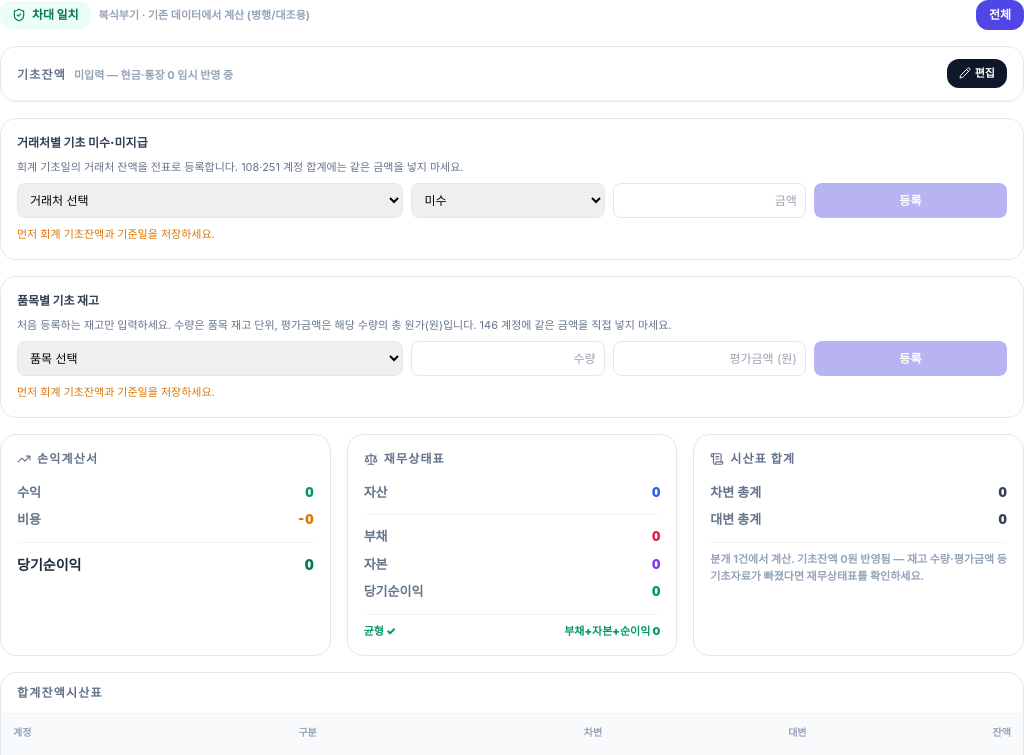
Test: 331 자동 차액 계정은 송신·잠금 없이 안내하고 다른 코드로 고칠 수 있다
The width and height of the screenshot is (1024, 755).
Click the button "편집" at [977, 73], box [947, 59, 1007, 88]
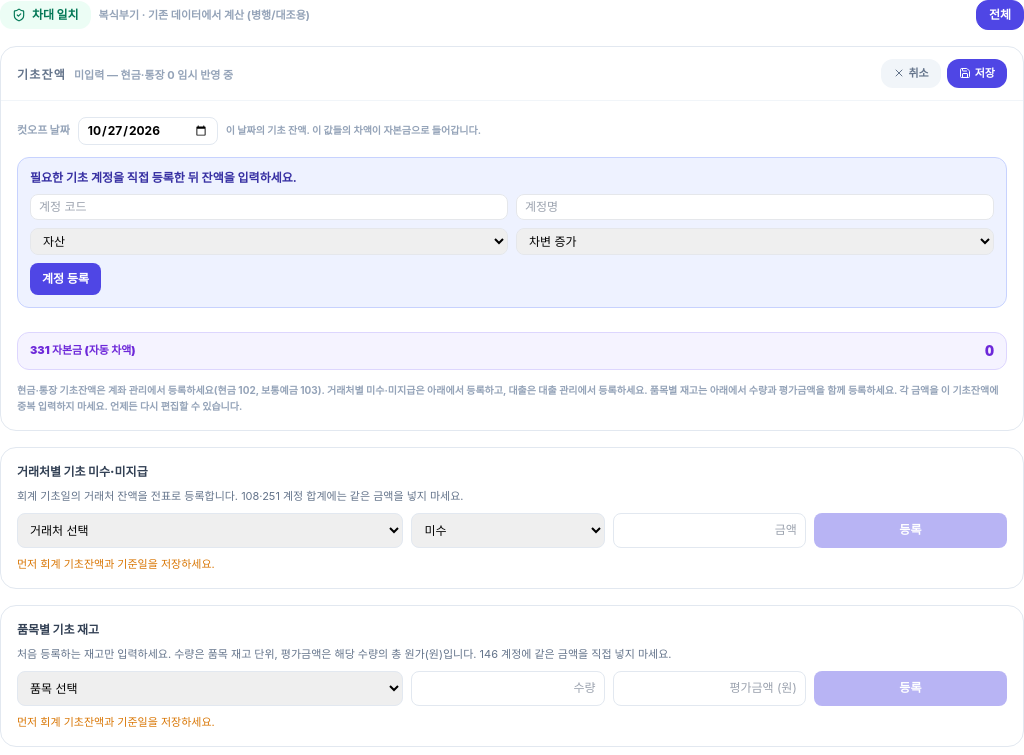
Type "122" into the field named "기초 계정 코드" at [269, 206], box [30, 194, 508, 220]
Type "비품" into the field named "기초 계정명" at [755, 206], box [516, 194, 994, 220]
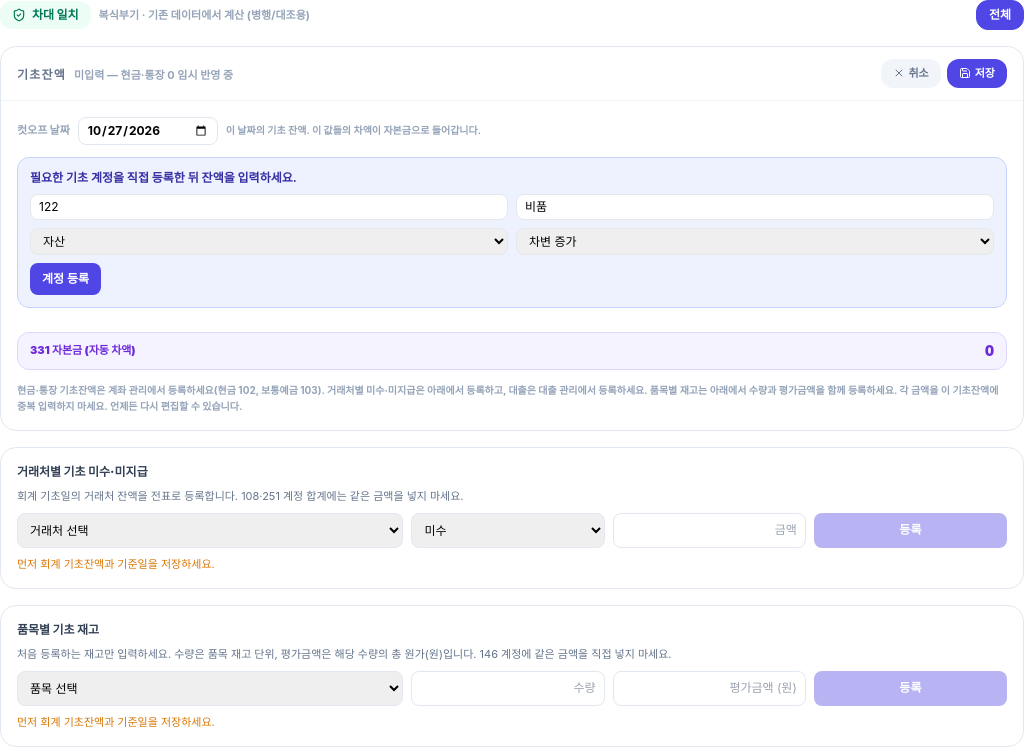
Replace the text in the field named "기초 계정 코드" with "331" at [269, 206], box [30, 194, 508, 220]
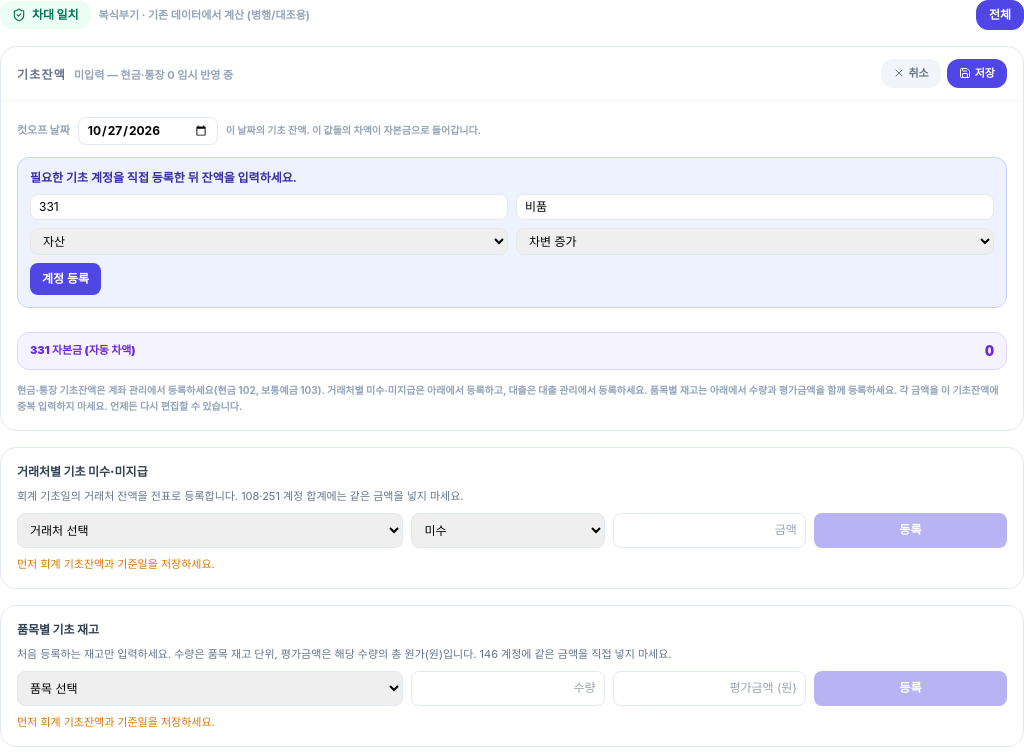
Click the button "계정 등록" at [66, 278], box [30, 262, 101, 294]
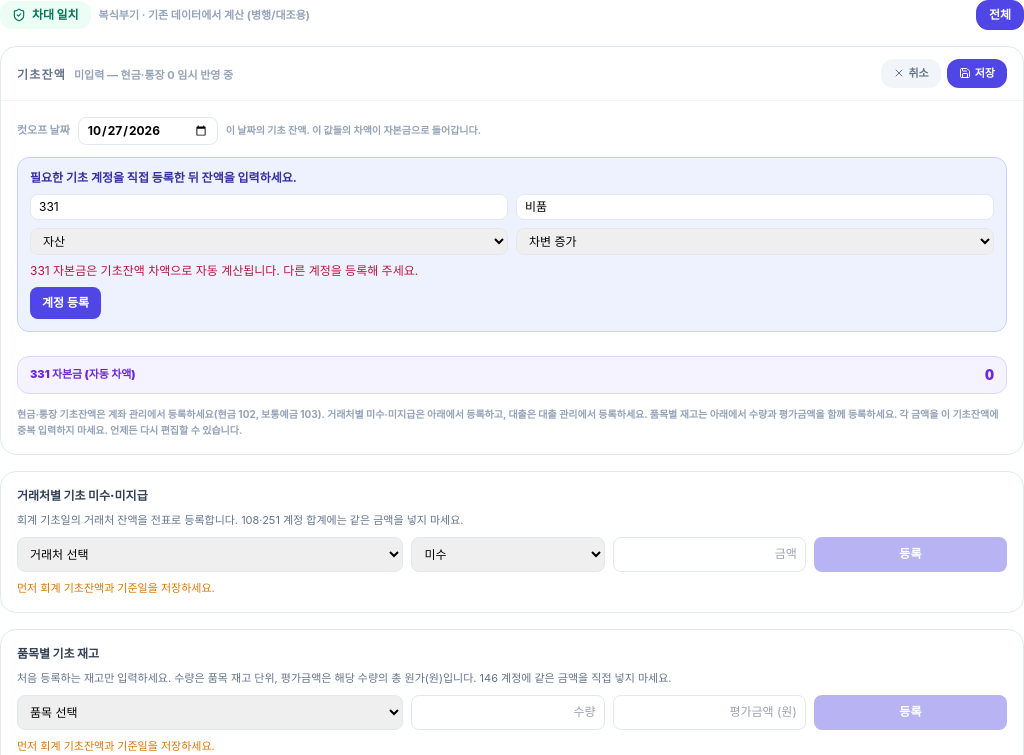
Expected: the field named "기초 계정 코드" is enabled
Expected: the text "331 자본금은 기초잔액 차액으로 자동 계산됩니다. 다른 계정을 등록해 주세요." is shown, [30, 262, 418, 278]
Replace the text in the field named "기초 계정 코드" with "122" at [269, 206], box [30, 194, 508, 220]
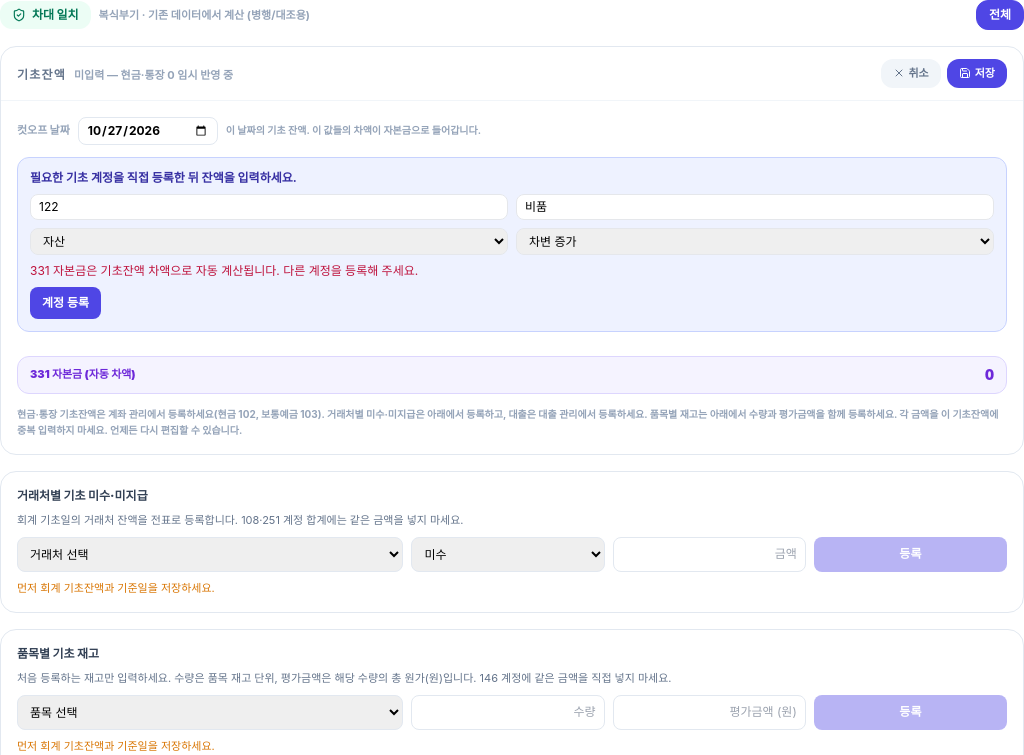
Click the button "계정 등록" at [66, 302], box [30, 286, 101, 318]
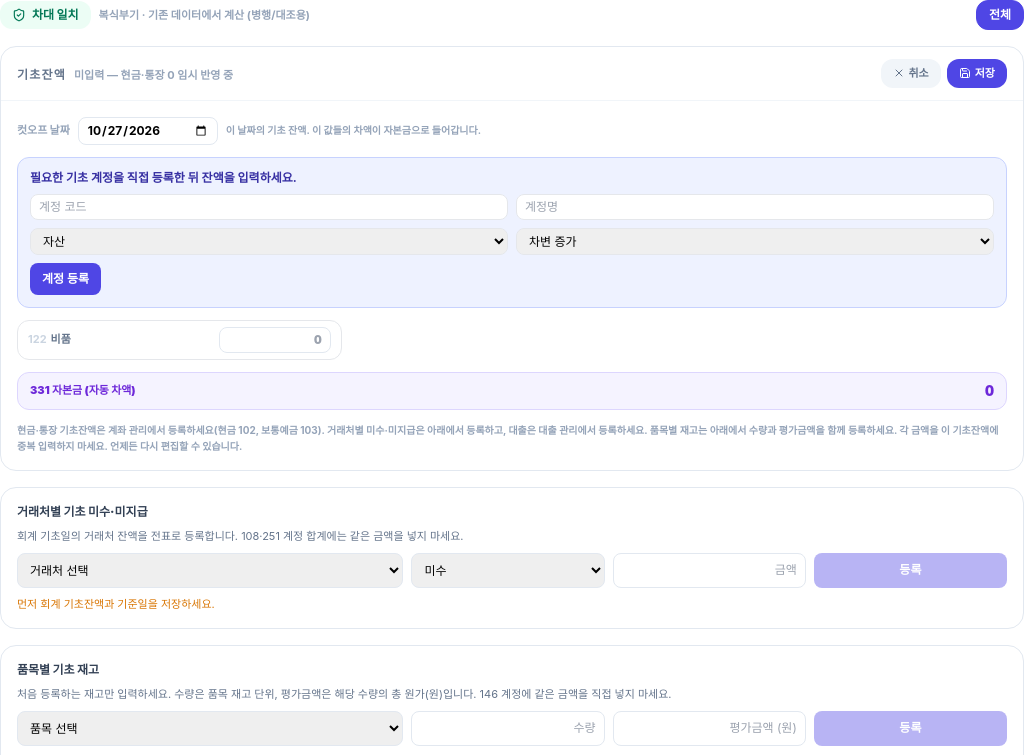
Expected: the field labelled "122비품" is shown, [219, 326, 331, 352]
